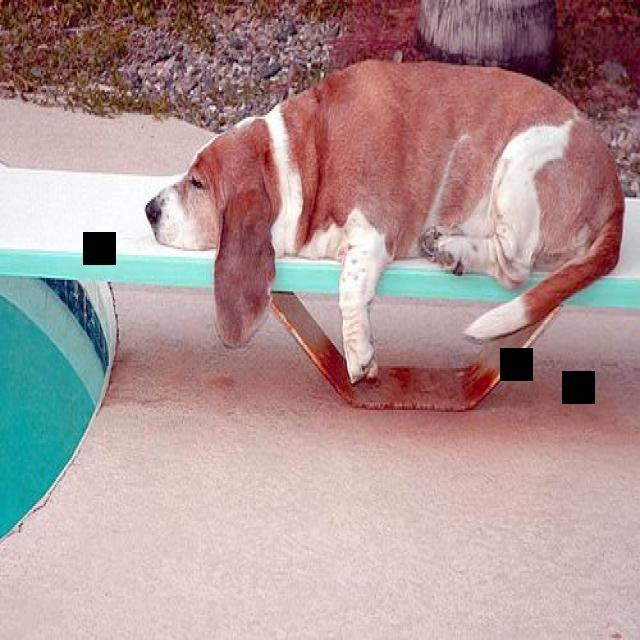adult_dog: (141, 60, 625, 390)
